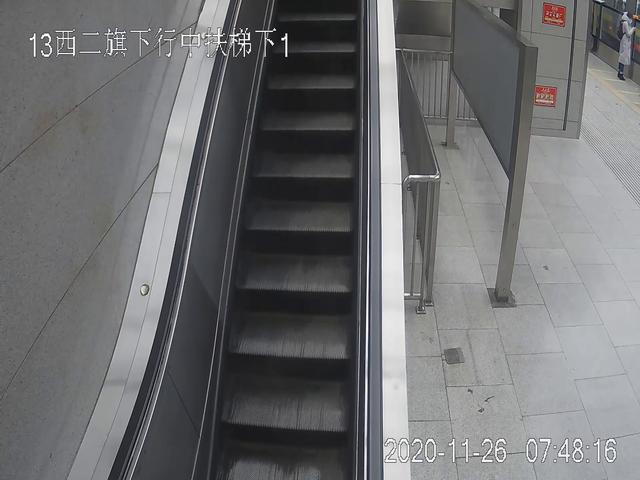person: (616, 10, 636, 83)
